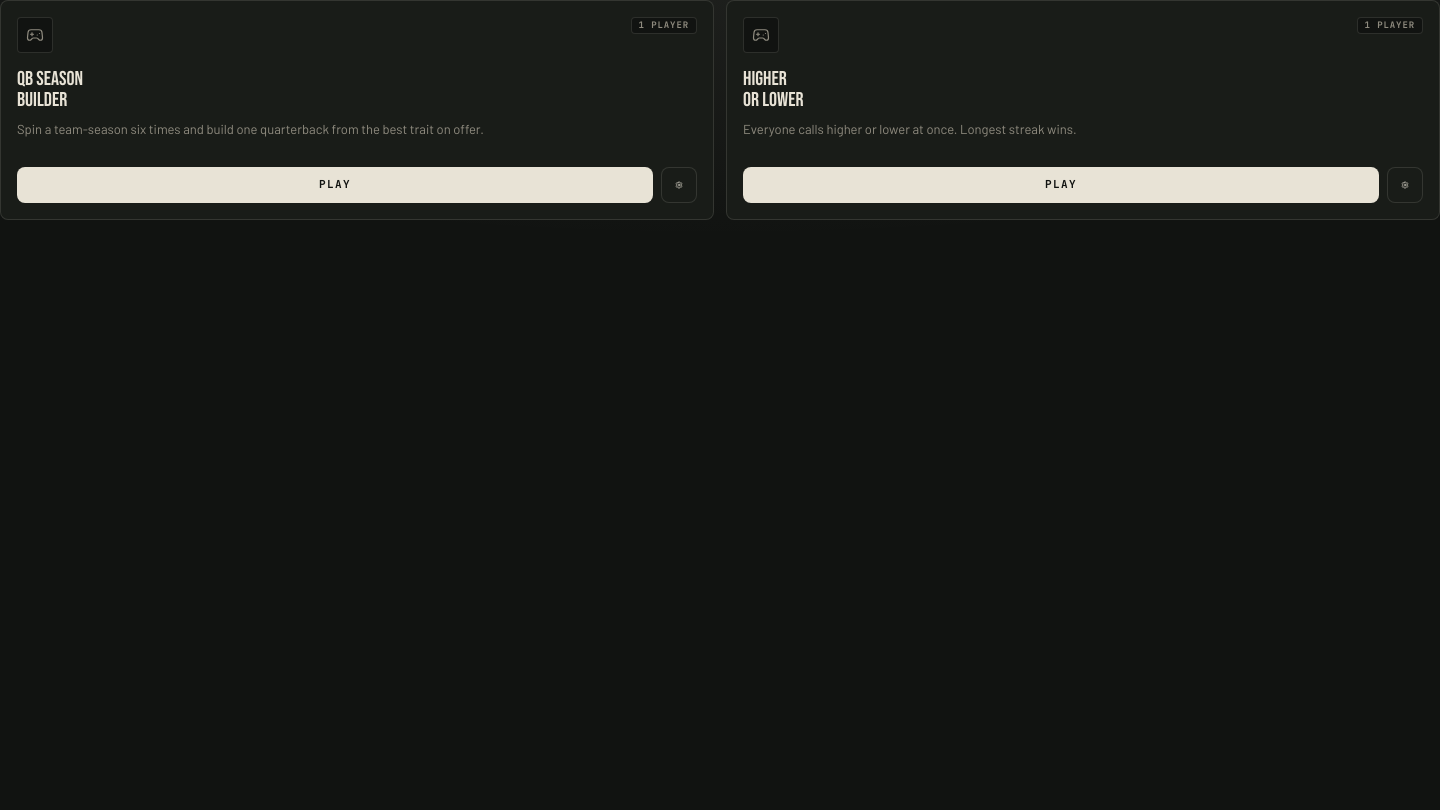
Scenario: SoloGrid › lets a QB Season Builder run start hidden, chosen in the settings dialog and kept after it closes
Step 1. Click the button named "settings" → (679,185), box [661, 167, 697, 203]
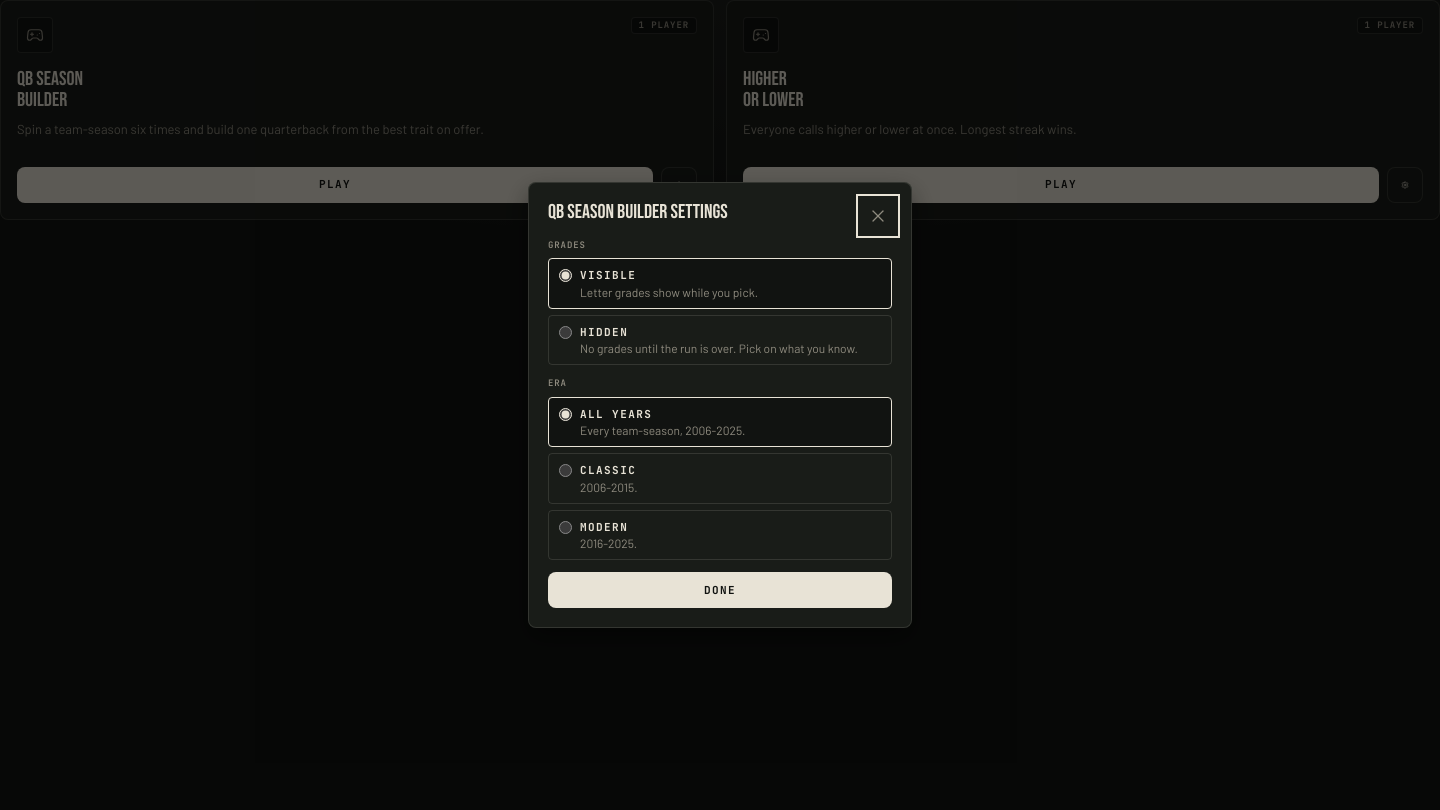
Now the radio button labelled "Visible Letter grades show while you pick." is checked, box [559, 269, 572, 282]
Step 2. Click the radio button labelled "Hidden" → (566,332), box [559, 326, 572, 339]
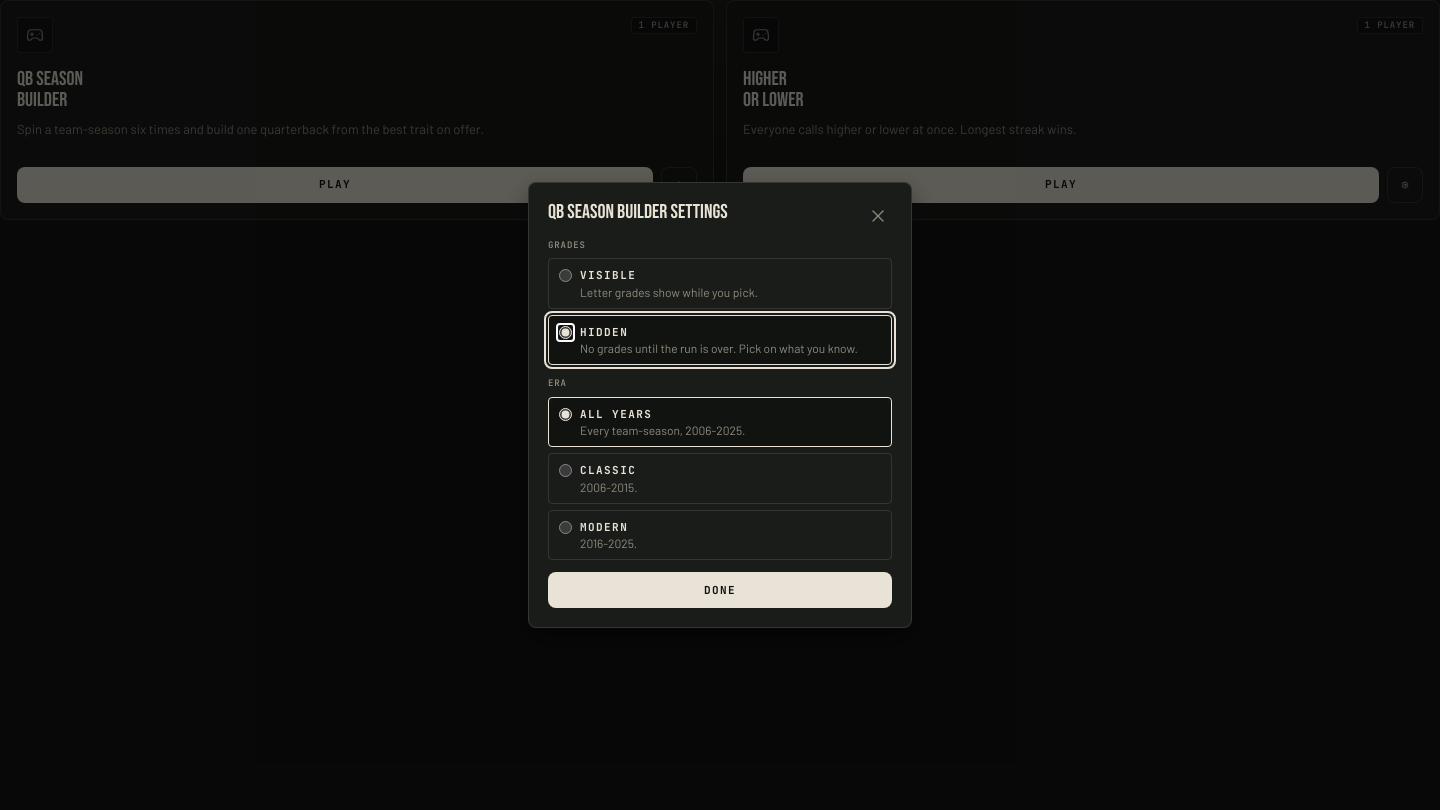
Step 3. Click the button "Done" → (720,590), box [548, 572, 892, 608]
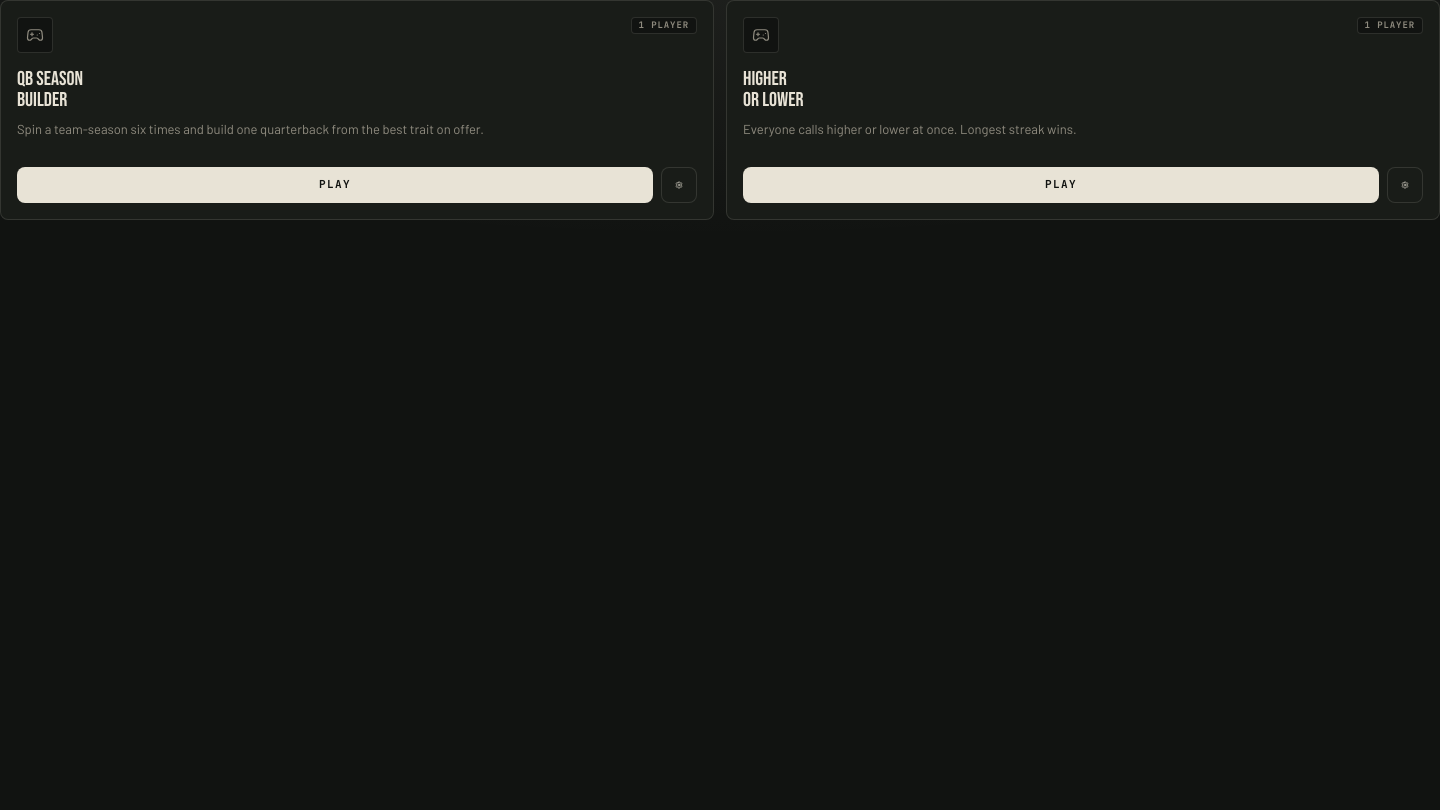
Now the dialog is gone
Step 4. Click the button named "settings" → (679,185), box [661, 167, 697, 203]
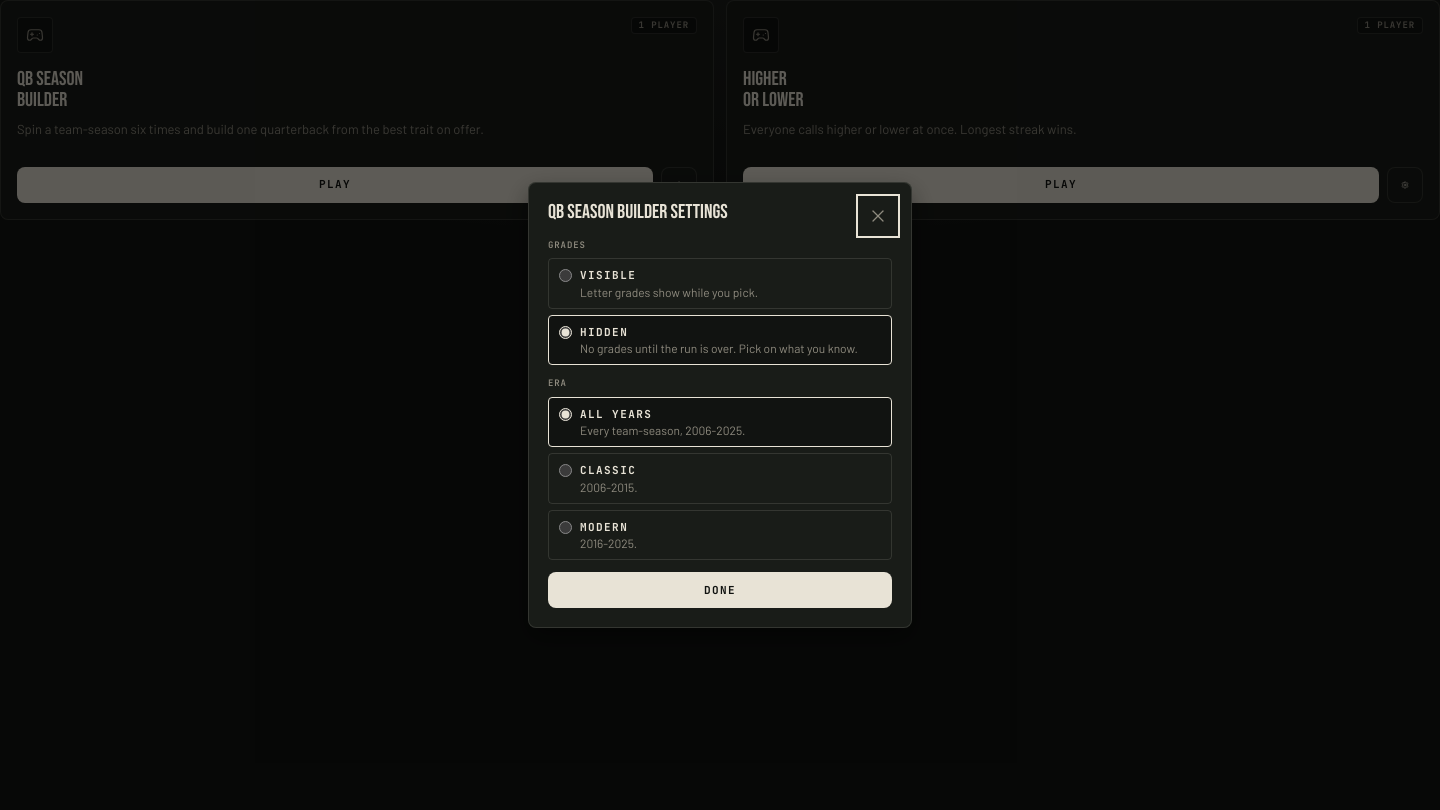
Now the radio button labelled "Hidden" is checked, box [559, 326, 572, 339]
